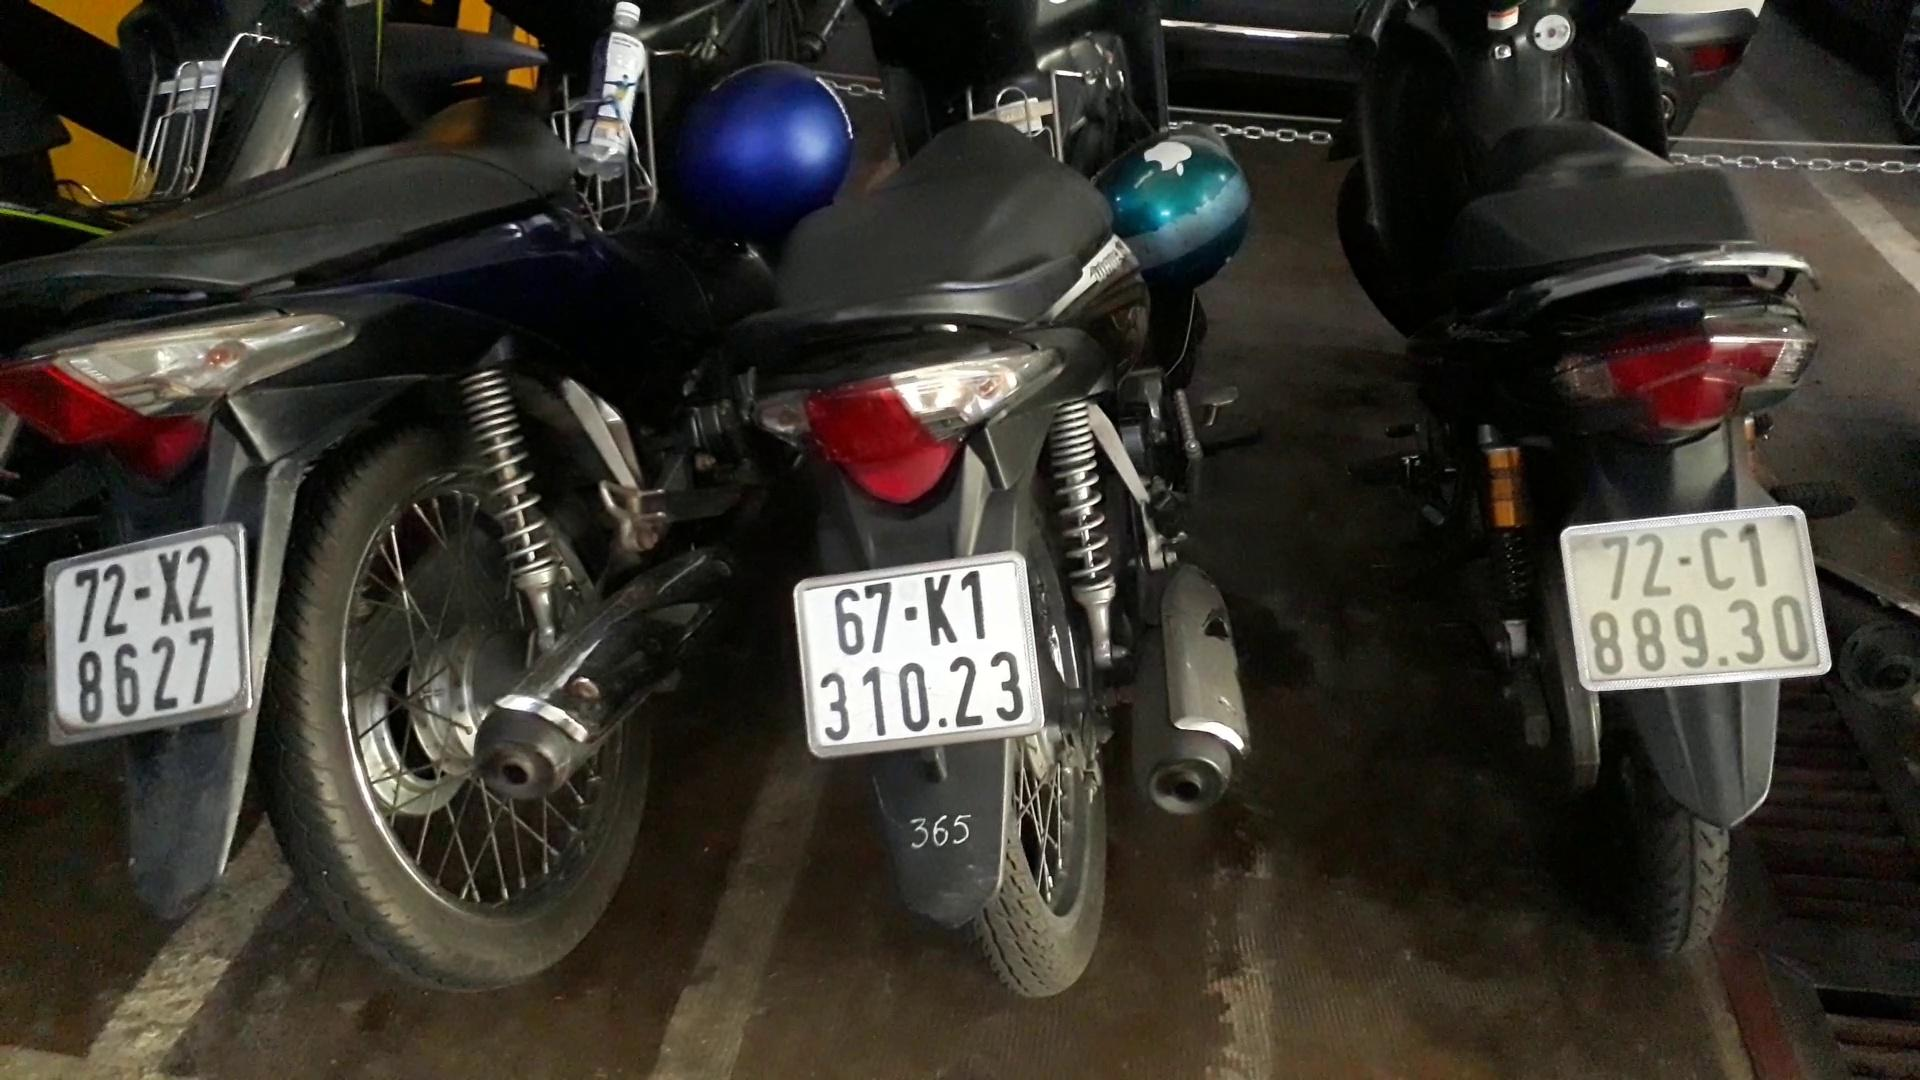numplate: (1553, 480, 1843, 703), (783, 552, 1056, 750), (33, 527, 271, 744)
